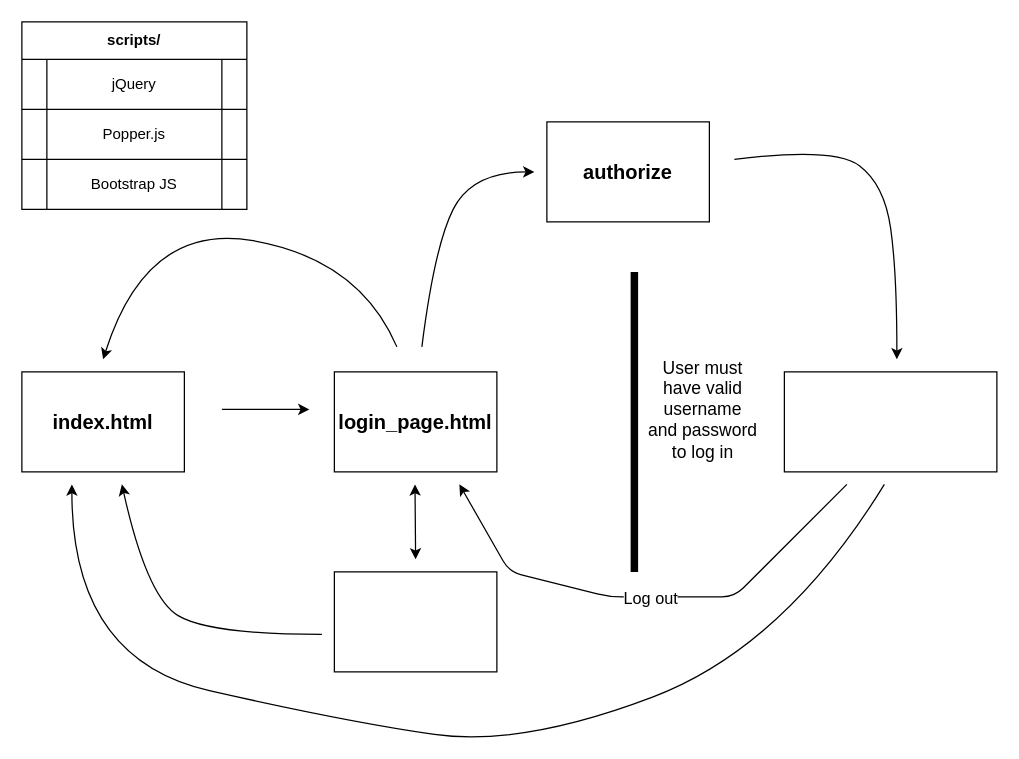
Image size: 1019x759. Some labels were removed from this diagram. The box of each missing label's shape, as (x1, y1, x2, y2) in pixels:
logged_in_page.html: (783, 371, 997, 472)
register.html: (333, 571, 497, 672)
